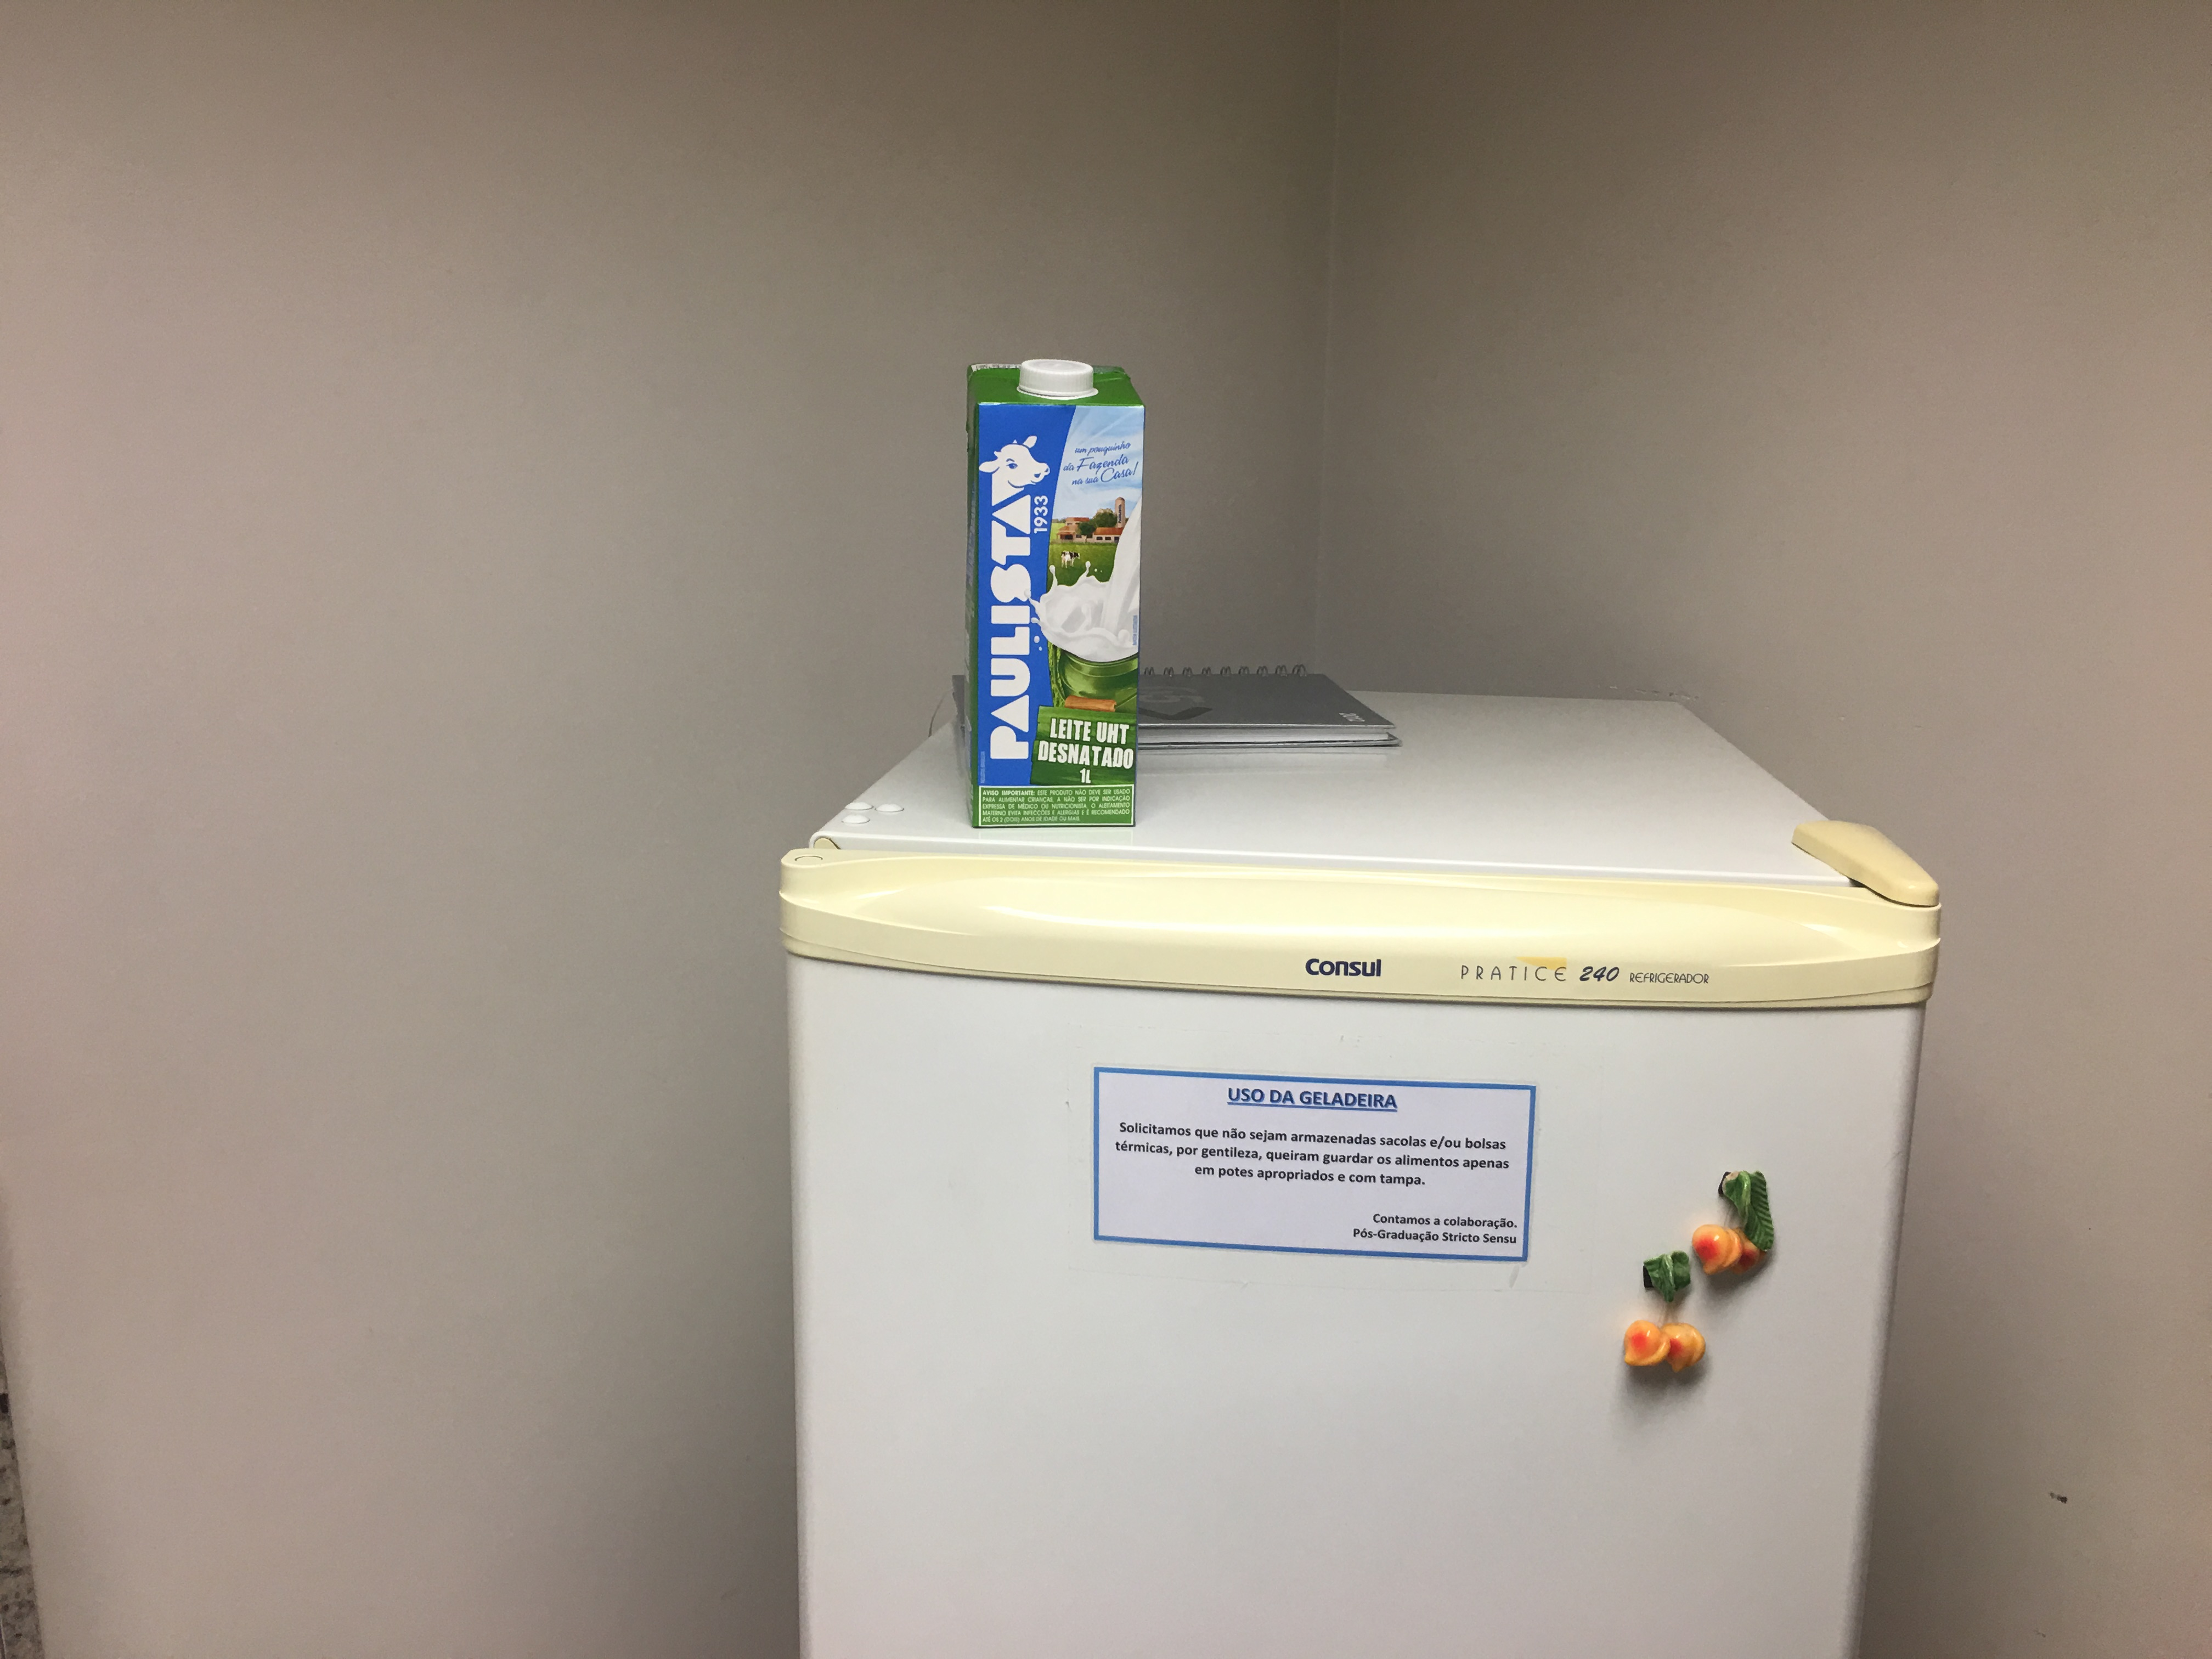milk_box: (953, 340, 1160, 838)
